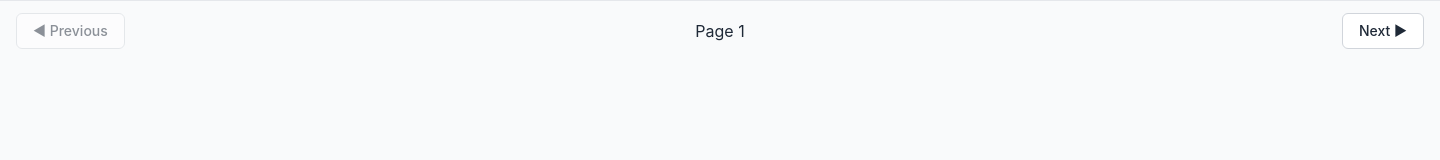
Test: Pagination › should move focus to the other button when Next reaches the last page
Step 1. Click the button "Next ▶" → [1383, 31], box [1342,13,1424,49]
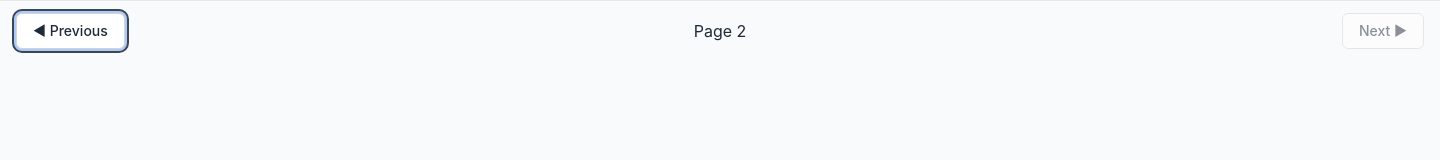
Check: the button "Next ▶" is disabled, box [1342,13,1424,49]
